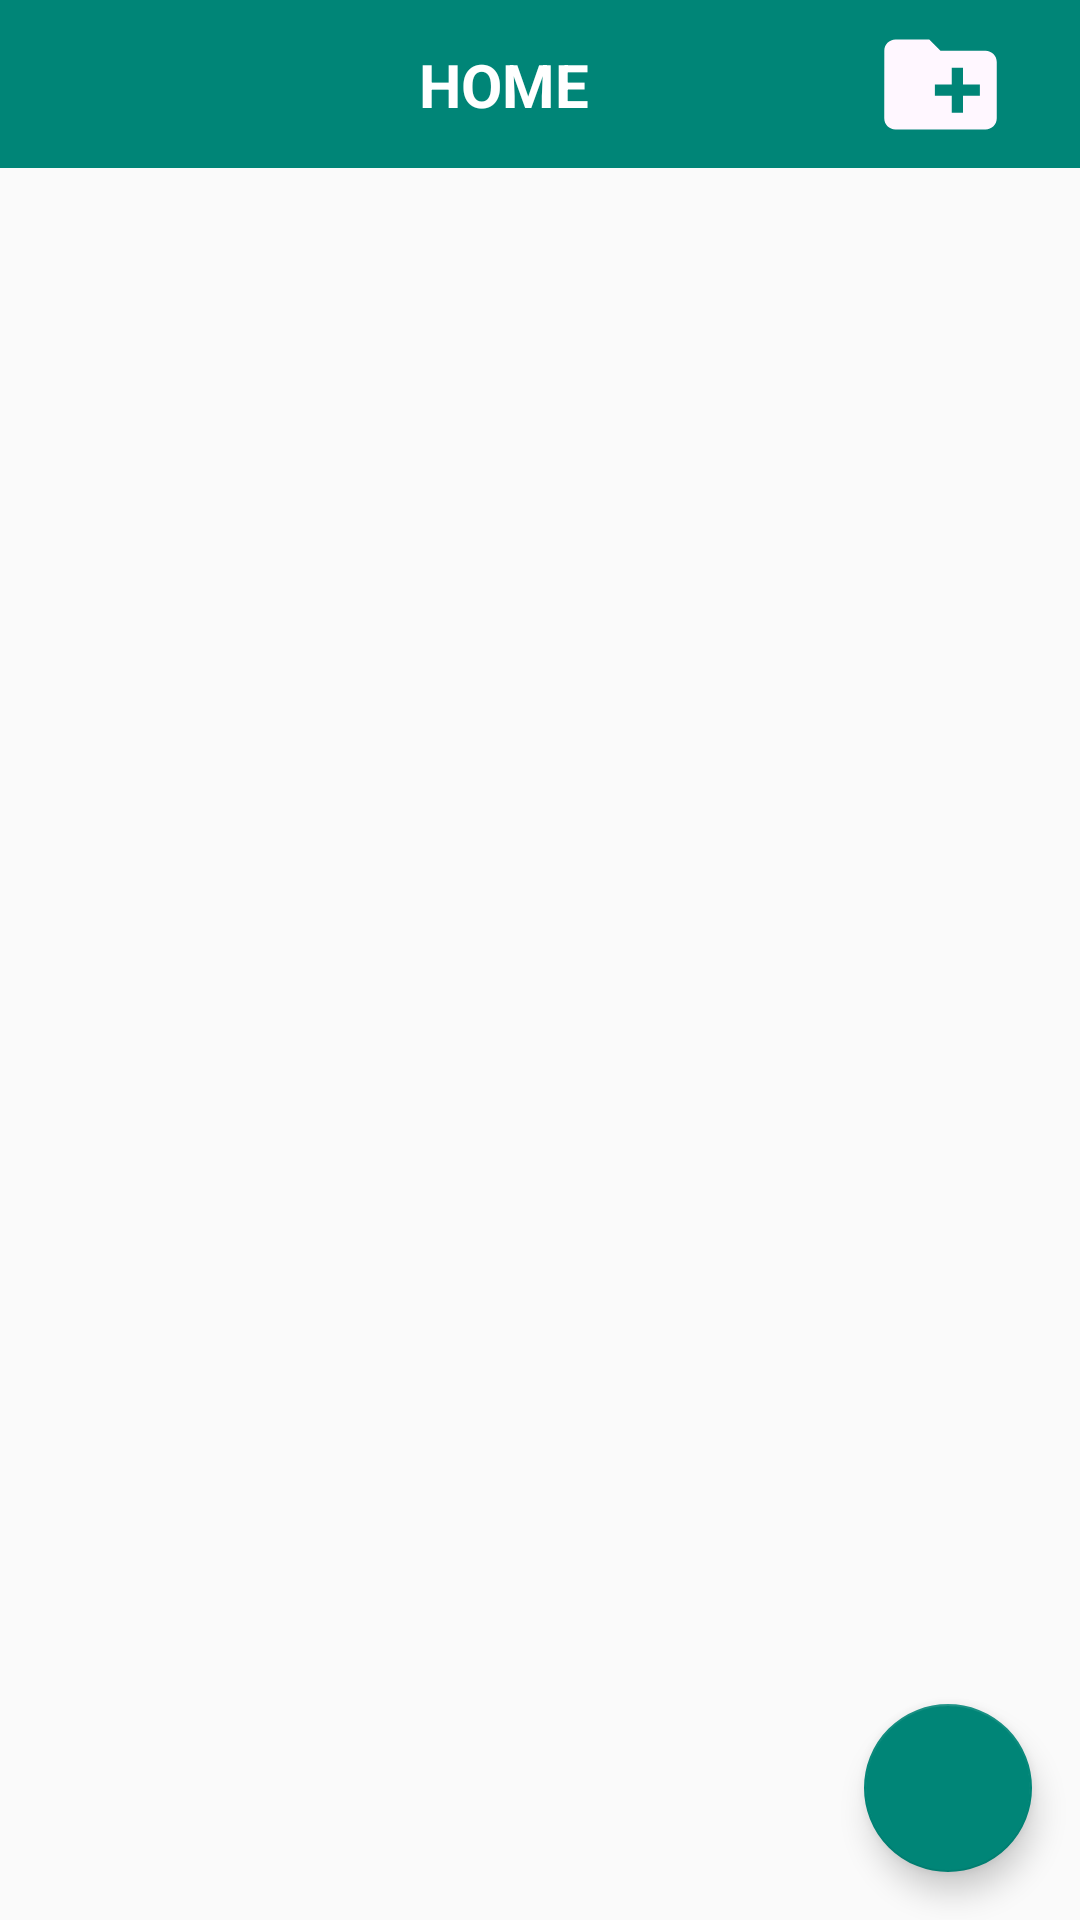

Icons on this 1080px×1920px Android screen, each with its box as Rect(x1, y1, x2, y2):
create folder: Rect(884, 39, 997, 130)
